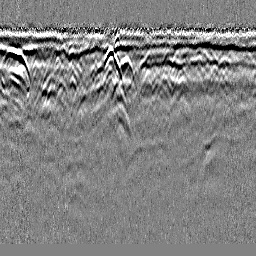cavity: (111, 54, 140, 103)
